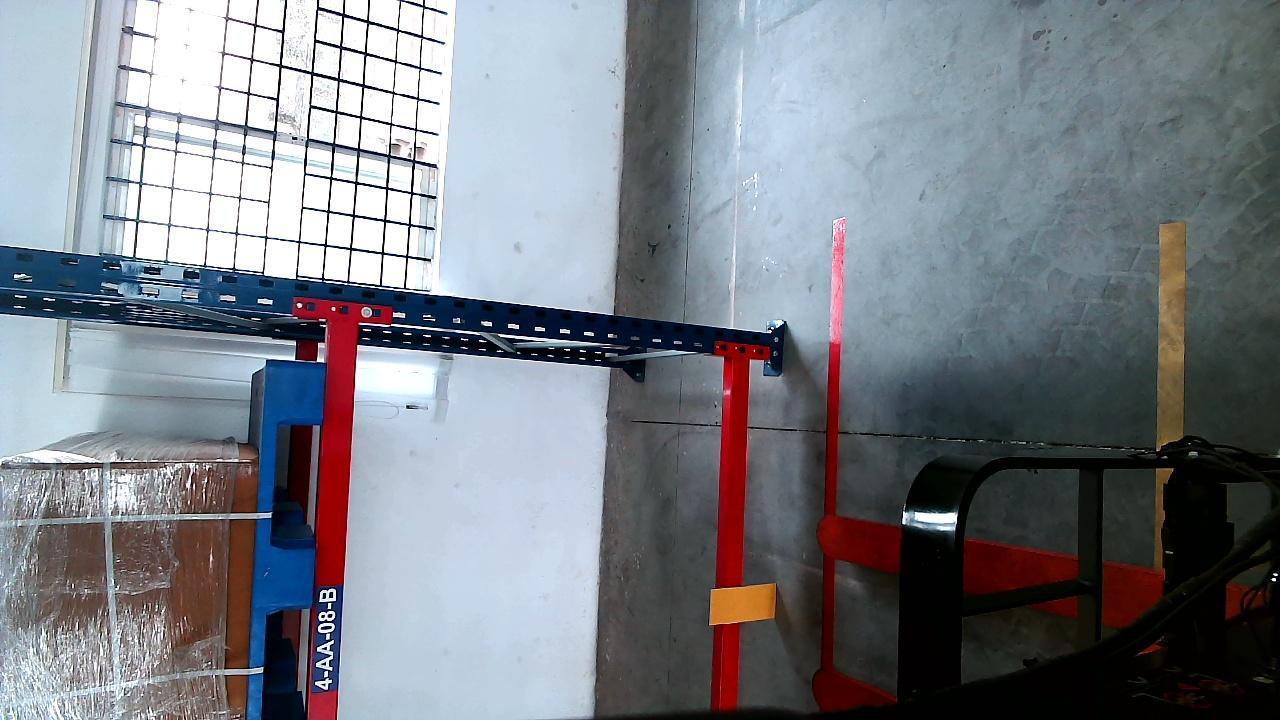red_line: (815, 219, 846, 674)
yellow_line: (1158, 222, 1185, 441)
